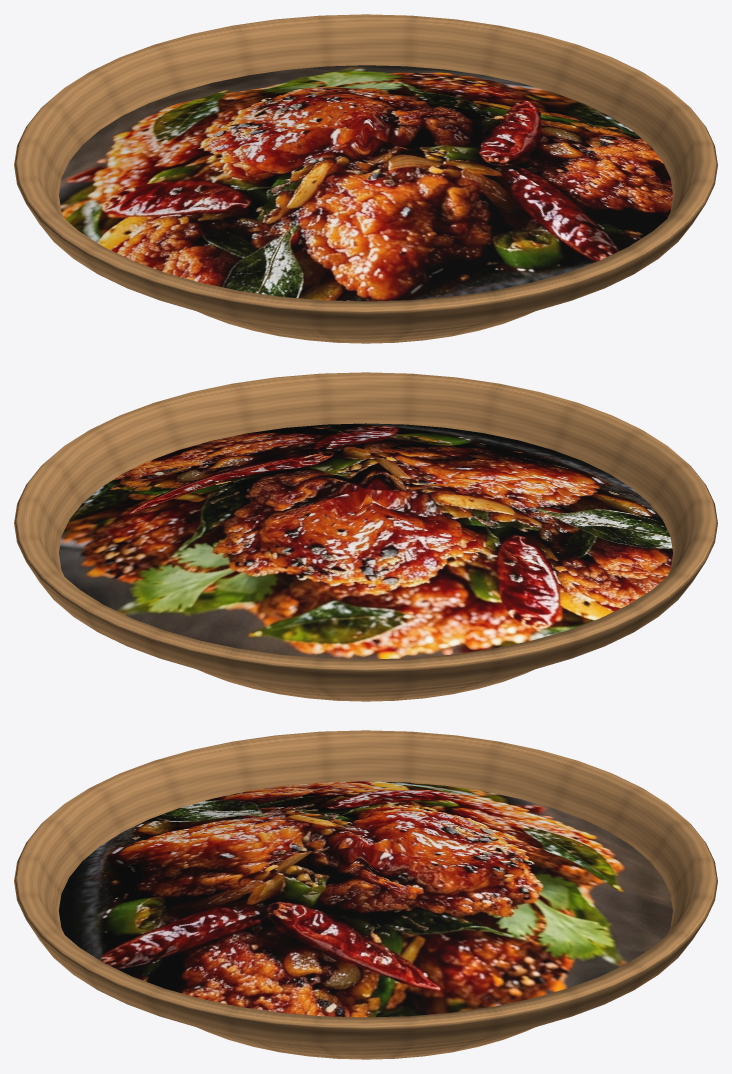
File: guntur-chicken.glb
3 views of the same model, one above another, from view 1: azimuth 30°, elevation 25°; view 2: azimuth 150°, elevation 25°; view 3: azimuth 270°, elevation 25° (orthographic).
Visible parts, largest first — view 1: FoodMound, BambooBowl; view 2: FoodMound, BambooBowl; view 3: FoodMound, BambooBowl.
Part boxes in pixels (bbox=[...]): FoodMound: bbox=[59, 65, 672, 301]; BambooBowl: bbox=[14, 14, 717, 343]; FoodMound: bbox=[59, 423, 672, 659]; BambooBowl: bbox=[14, 372, 717, 701]; FoodMound: bbox=[59, 781, 672, 1017]; BambooBowl: bbox=[14, 730, 717, 1059].
Size of the model in its own units: 0.25 by 0.048 by 0.25.
2 materials, 2 textured.
